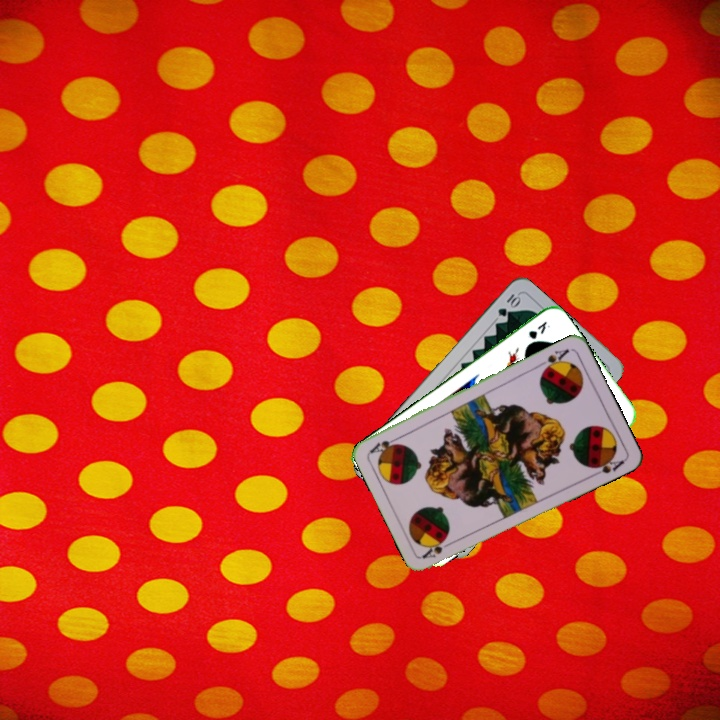G10: (493, 290, 523, 319)
GK: (524, 317, 553, 342)
SA: (535, 345, 572, 374), (419, 535, 457, 562)
